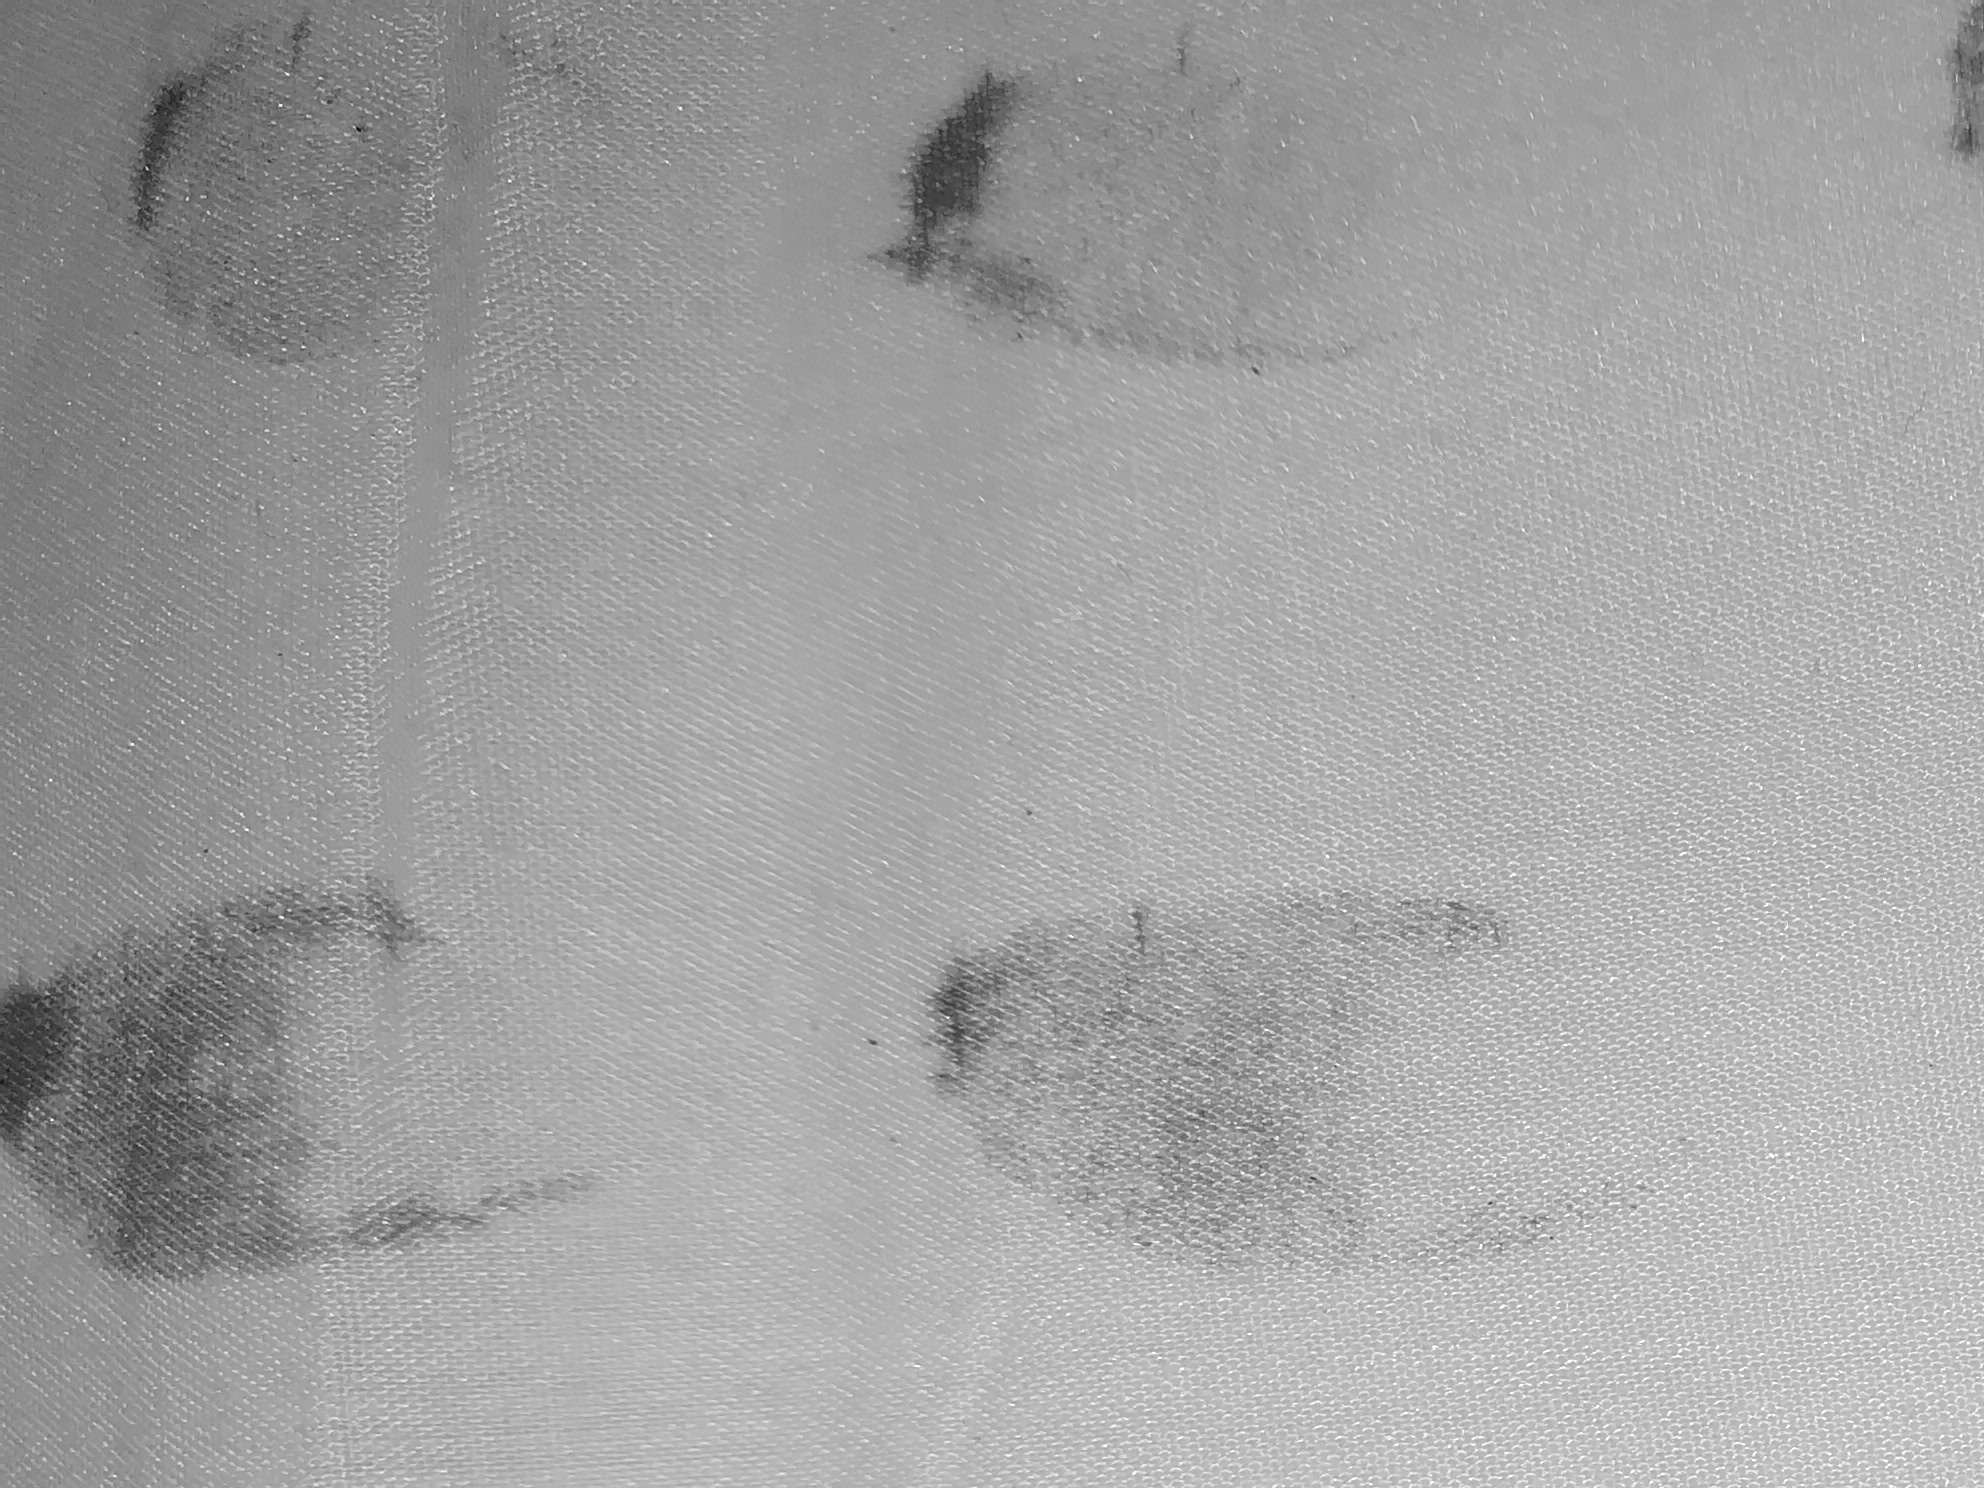Stain: (797, 746, 1792, 1355), (2, 735, 645, 1380), (836, 23, 1525, 463), (58, 8, 603, 438), (1867, 11, 1984, 195)
